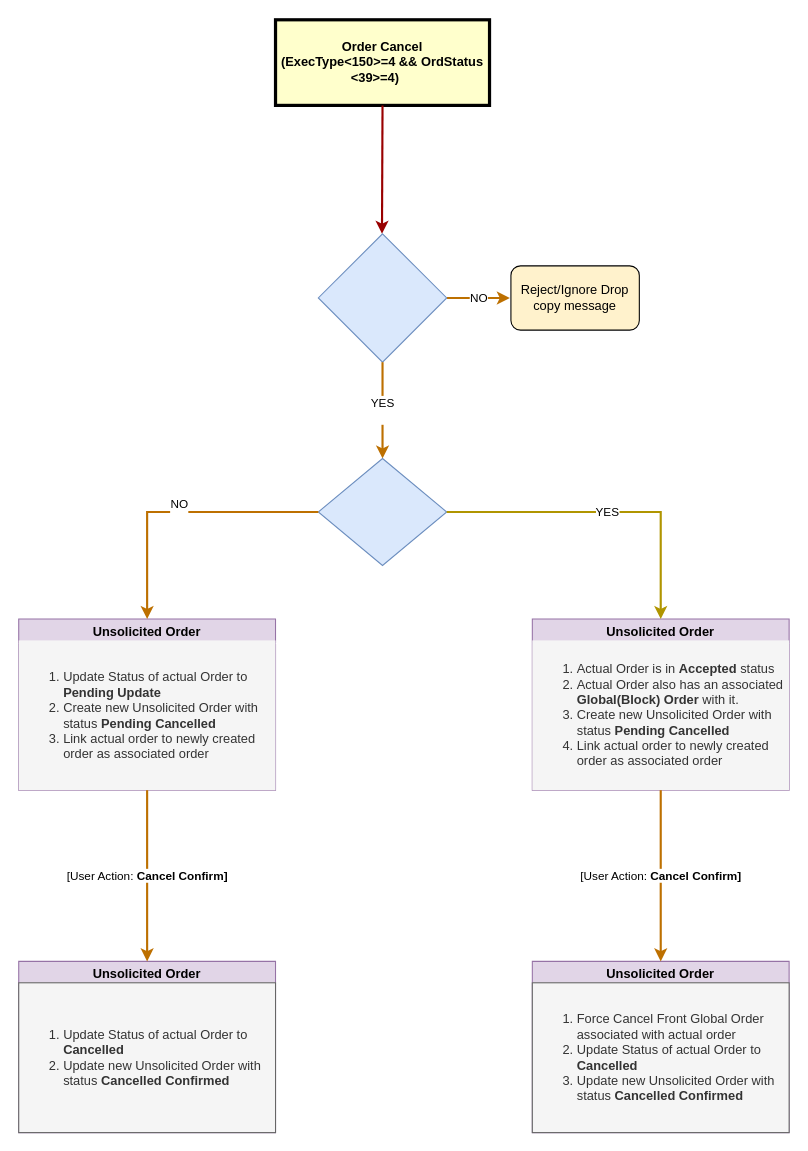
Some shapes in this 808 by 1151 pixel diagram are drawn without their labels. Each missing label, with the centre of its shape:
Is Actual Order present?: (x=382, y=297)
Is Actual Order status is Accepted?: (x=382, y=511)
